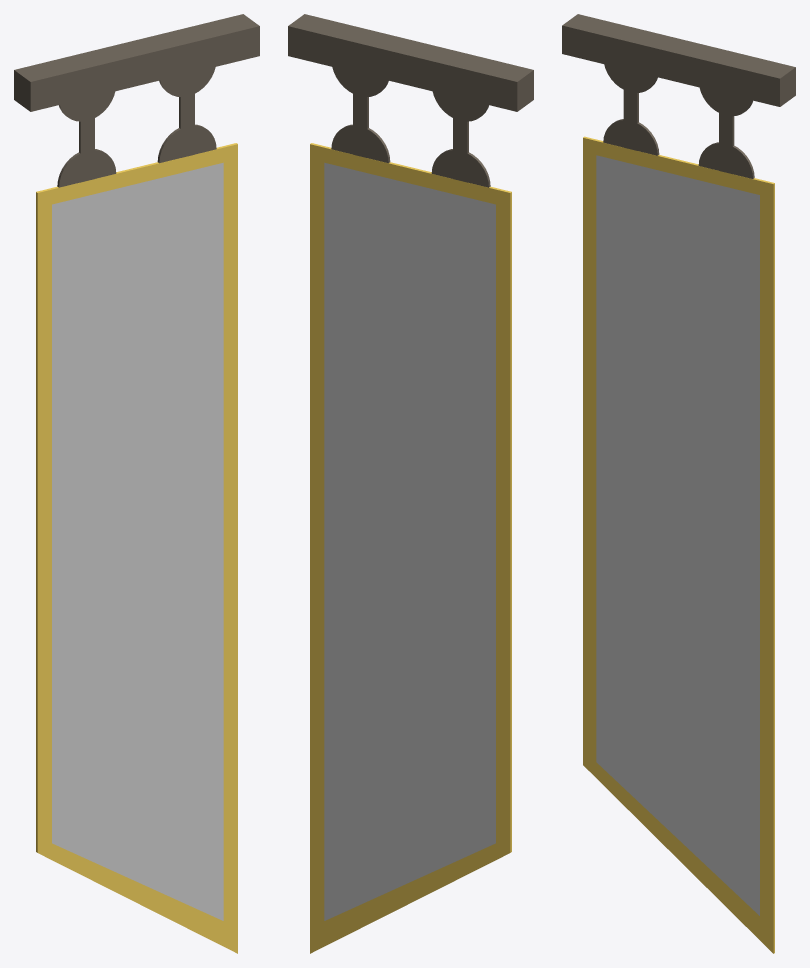
Rendered from Angled Banner.fbx.
3 views of the same model, side by side, from view 1: azimuth 30°, elevation 25°; view 2: azimuth 150°, elevation 25°; view 3: azimuth 330°, elevation 25° (orthographic). The views are drawn at different scales.
Parts seen in each view (by area): view 1: Flag.001, Hanging Post, Hanging Chain; view 2: Flag.001, Hanging Post, Hanging Chain; view 3: Flag.001, Hanging Post, Hanging Chain.
Boxes of the visible parts, box(x1,y1,x2,y2) form: Flag.001: box(36, 143, 237, 953); Hanging Post: box(14, 14, 259, 111); Hanging Chain: box(57, 67, 216, 187); Flag.001: box(310, 143, 511, 953); Hanging Post: box(288, 14, 533, 111); Hanging Chain: box(331, 67, 490, 187); Flag.001: box(583, 136, 774, 953); Hanging Post: box(562, 14, 795, 106); Hanging Chain: box(603, 64, 754, 178).
Bounding box in the file's own units: 800 × 3100 × 100.
